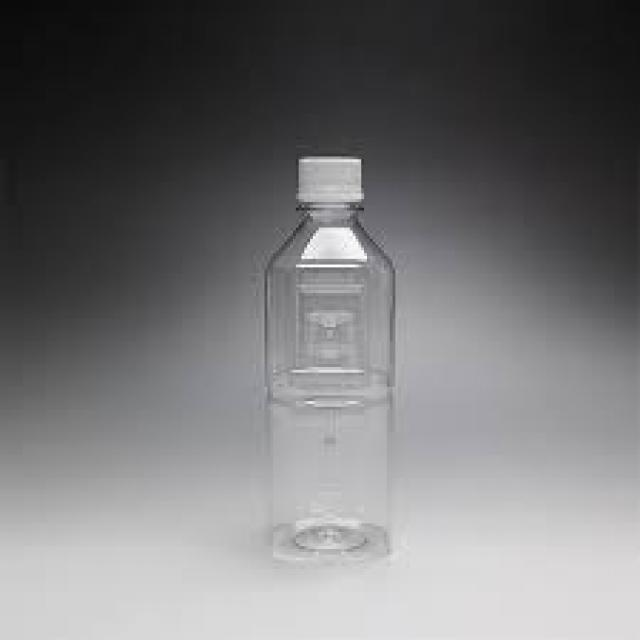Plastic: (266, 157, 390, 566)
